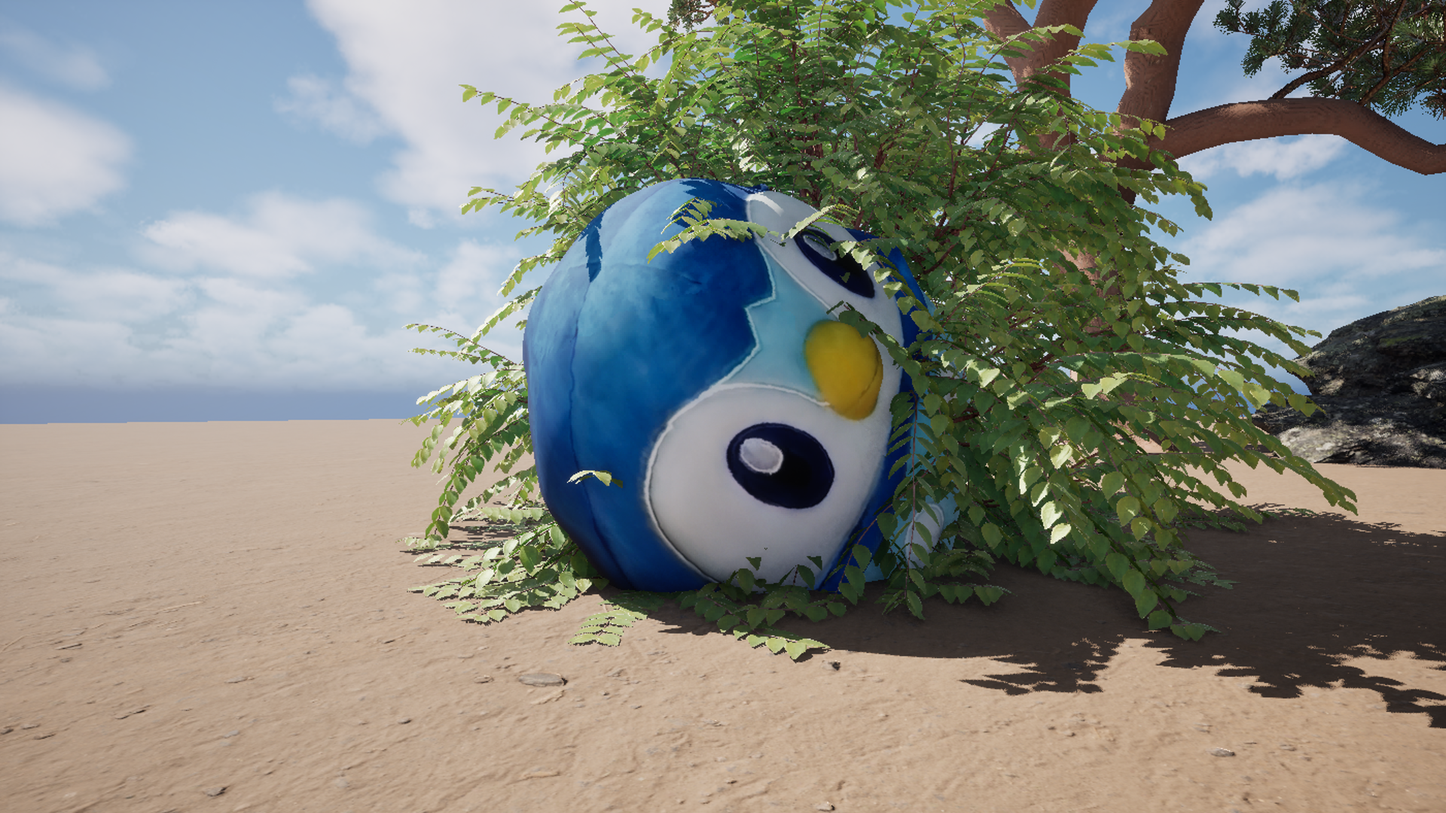Piplup: (294, 0, 1053, 813)
